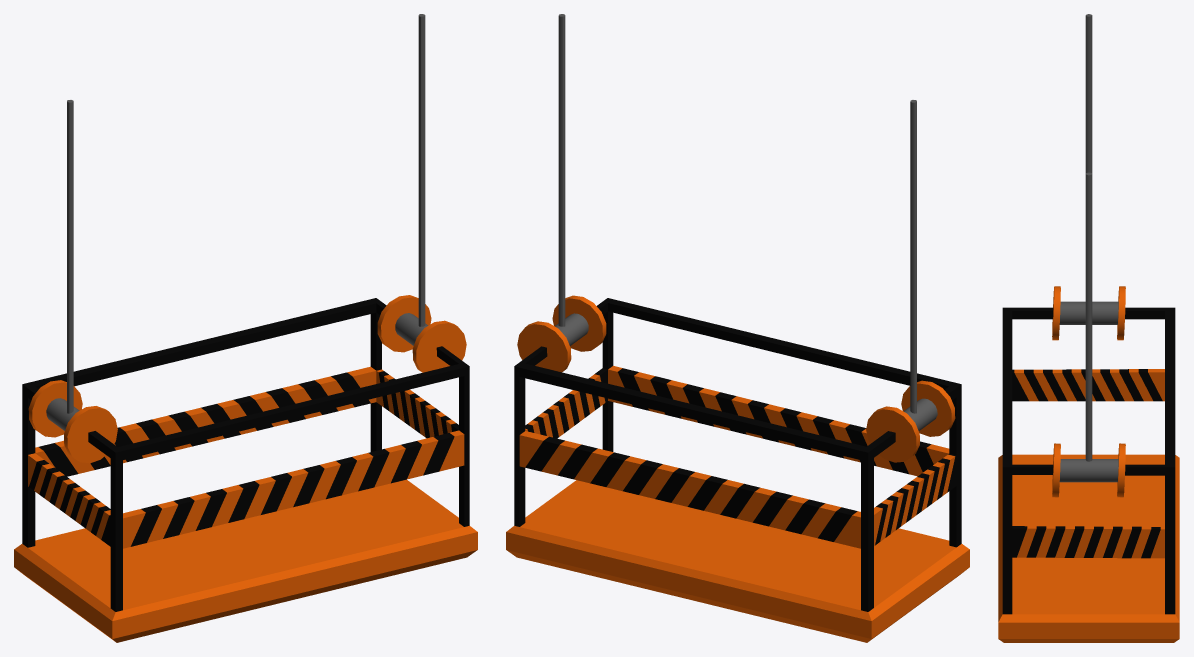
File: Viga_Obst.fbx
The picture shows the model from 3 angles, left to right: view 1: azimuth 30°, elevation 25°; view 2: azimuth 150°, elevation 25°; view 3: azimuth 270°, elevation 25°; orthographic projection. The views are drawn at different scales.
Visible parts, largest first — view 1: pCube1, pCube16, pCube15, pCylinder1, pCylinder4, pCylinder6, pCylinder2; view 2: pCube1, pCube16, pCube15, pCylinder2, pCylinder6, pCylinder4, pCylinder1; view 3: pCube1, pCube16, pCylinder5, pCube15, pCylinder3, pCylinder4, pCylinder1, pCylinder2, pCylinder6.
Boxes of the visible parts, x1,y1,x2,y2 form: pCube1: (14,298,477,642); pCube16: (418,14,425,326); pCube15: (67,100,73,413); pCylinder1: (64,406,117,463); pCylinder4: (412,320,466,372); pCylinder6: (377,295,431,352); pCylinder2: (28,380,82,437); pCube1: (506,298,969,642); pCube16: (558,14,565,326); pCube15: (910,100,916,413); pCylinder2: (866,406,919,462); pCylinder6: (517,321,571,372); pCylinder4: (552,295,606,351); pCylinder1: (901,380,955,436); pCube1: (998,307,1179,642); pCube16: (1085,172,1092,461); pCylinder5: (1059,459,1118,482); pCube15: (1085,14,1092,173); pCylinder3: (1059,301,1118,324); pCylinder4: (1052,443,1060,497); pCylinder1: (1052,286,1060,340); pCylinder2: (1117,286,1125,340); pCylinder6: (1117,443,1125,497).
Size of the model in its own units: 13.1 by 15.94 by 5.58.
